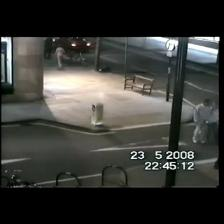person: (193, 99, 211, 143), (208, 102, 219, 143), (56, 45, 65, 69), (45, 38, 53, 58), (213, 154, 219, 170)
